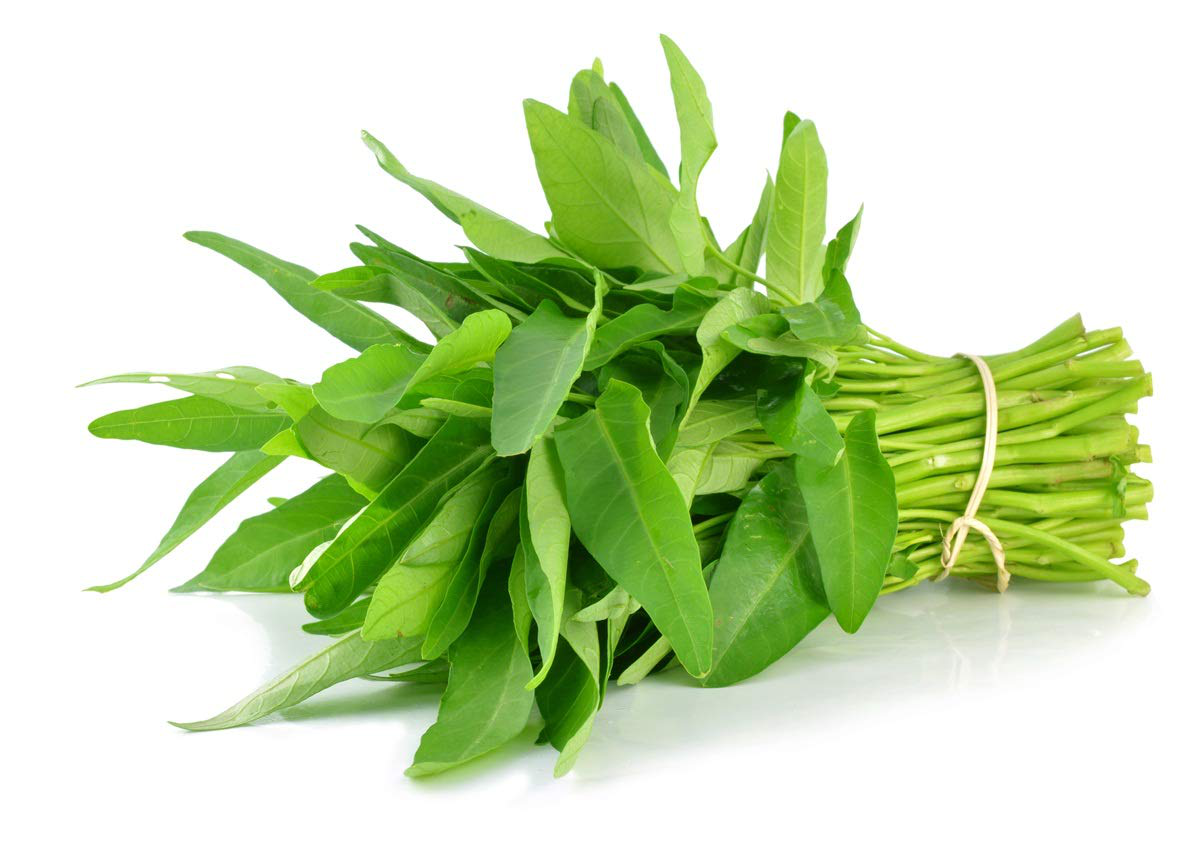Kangkung: (74, 52, 1158, 779)
